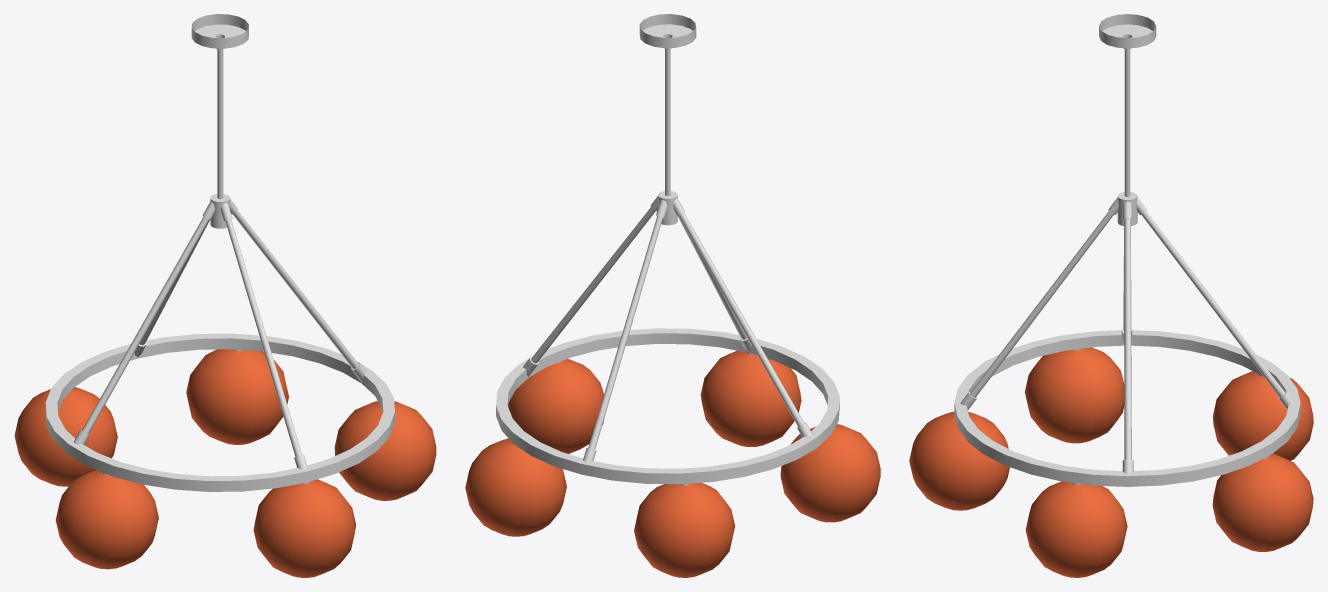
File: Chandelier.fbx
3 renders of one model, left to right at view 1: azimuth 30°, elevation 25°; view 2: azimuth 150°, elevation 25°; view 3: azimuth 270°, elevation 25°, orthographic.
Parts seen in each view (by area): view 1: Chandelier; view 2: Chandelier; view 3: Chandelier.
Boxes of the visible parts, x1,y1,x2,y2 form: Chandelier: (14,14,436,577); Chandelier: (465,14,880,577); Chandelier: (909,14,1313,577).
Size of the model in its own units: 190 by 237 by 183.
